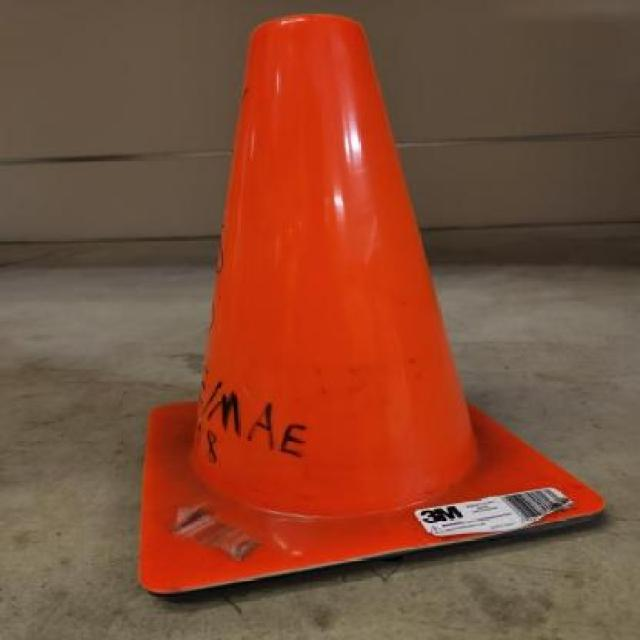traffic cone: (119, 3, 616, 610)
